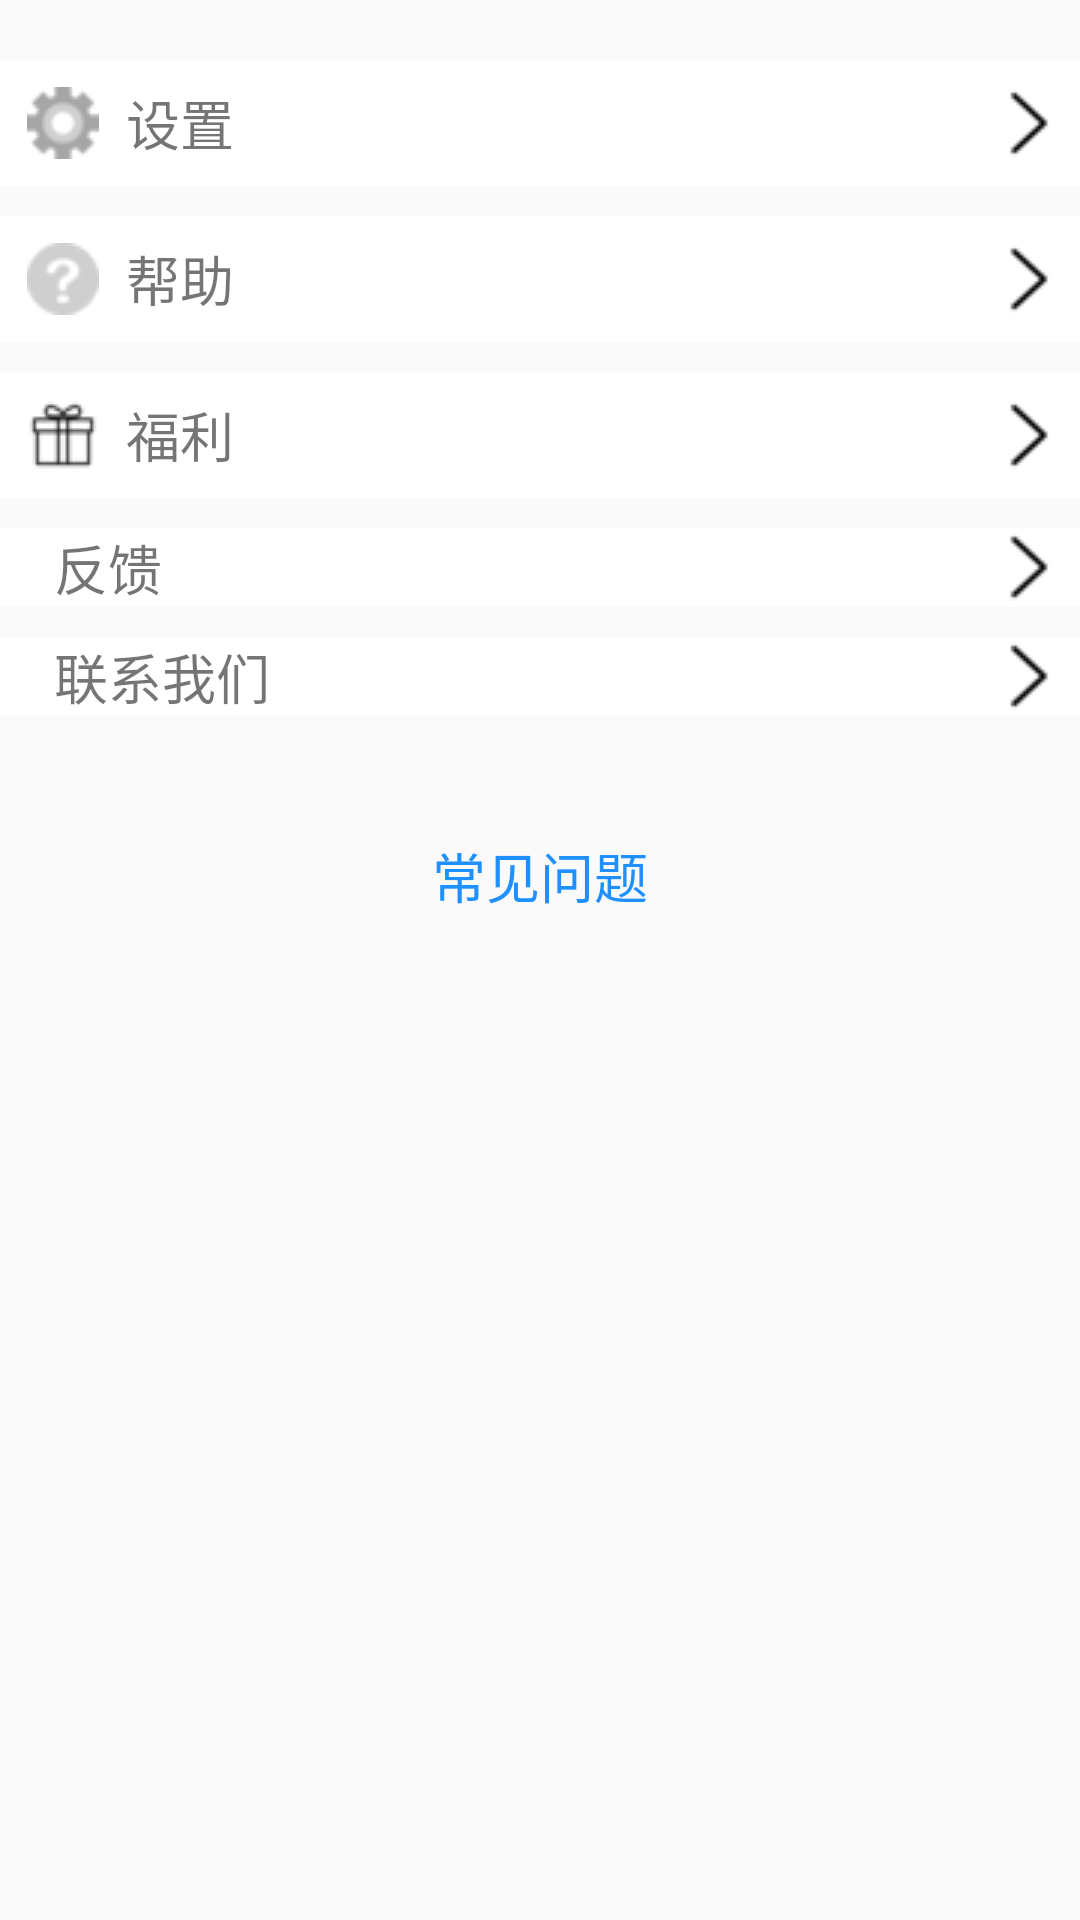

Icon click points for this 1080w x 1920h phone screenshot, format (x=x, y=y):
gift: (x=63, y=435)
help: (x=63, y=279)
right: (x=1029, y=123), (x=1029, y=279), (x=1029, y=435), (x=1029, y=567), (x=1029, y=676)
setting: (x=63, y=123)
